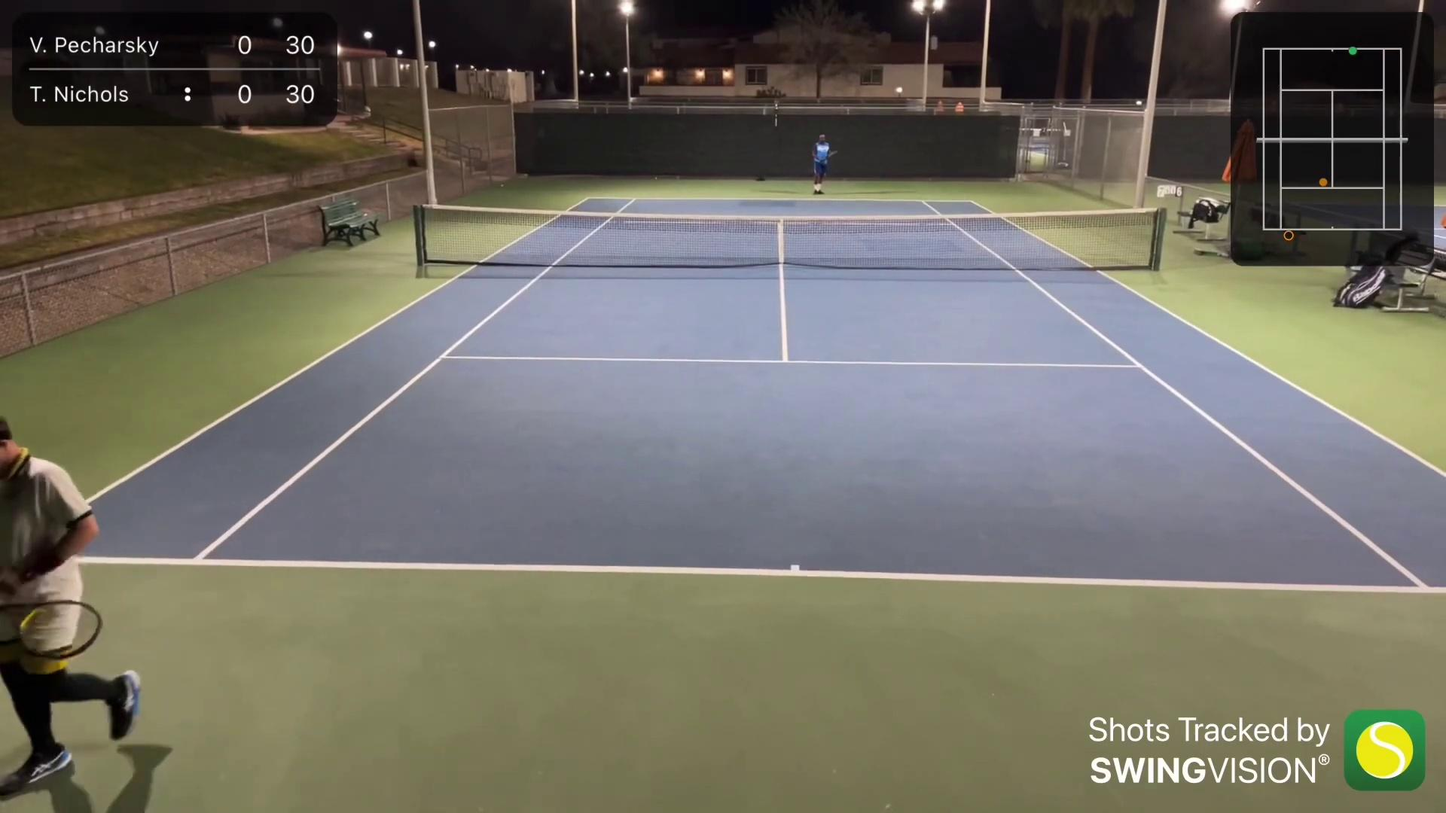ball: (500, 183, 505, 188), (654, 176, 657, 179)
